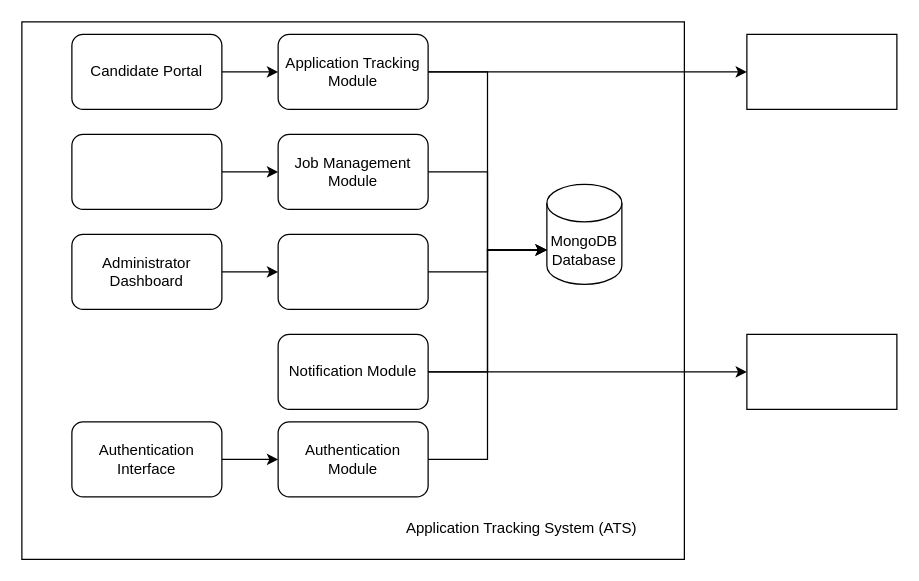
Some shapes in this 919 by 581 pixel diagram are drawn without their labels. The shapes that lost their labels are listed below. From the top down, each one's box as (x1, y1, x2, y2) in pixels, then its label:
(746, 33, 897, 109): Cloud Storage Service
(71, 133, 222, 209): Recruiter Dashboard
(277, 233, 428, 309): Reporting Module
(746, 333, 897, 409): Email Notification Service
